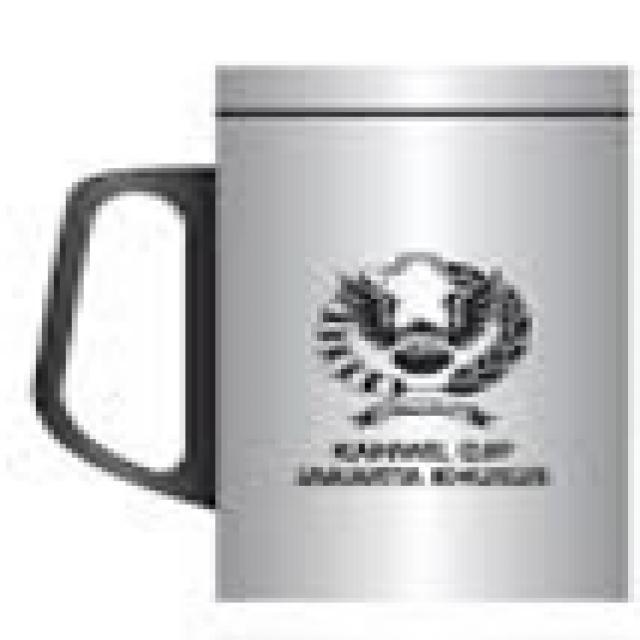taza: (37, 67, 629, 606)
